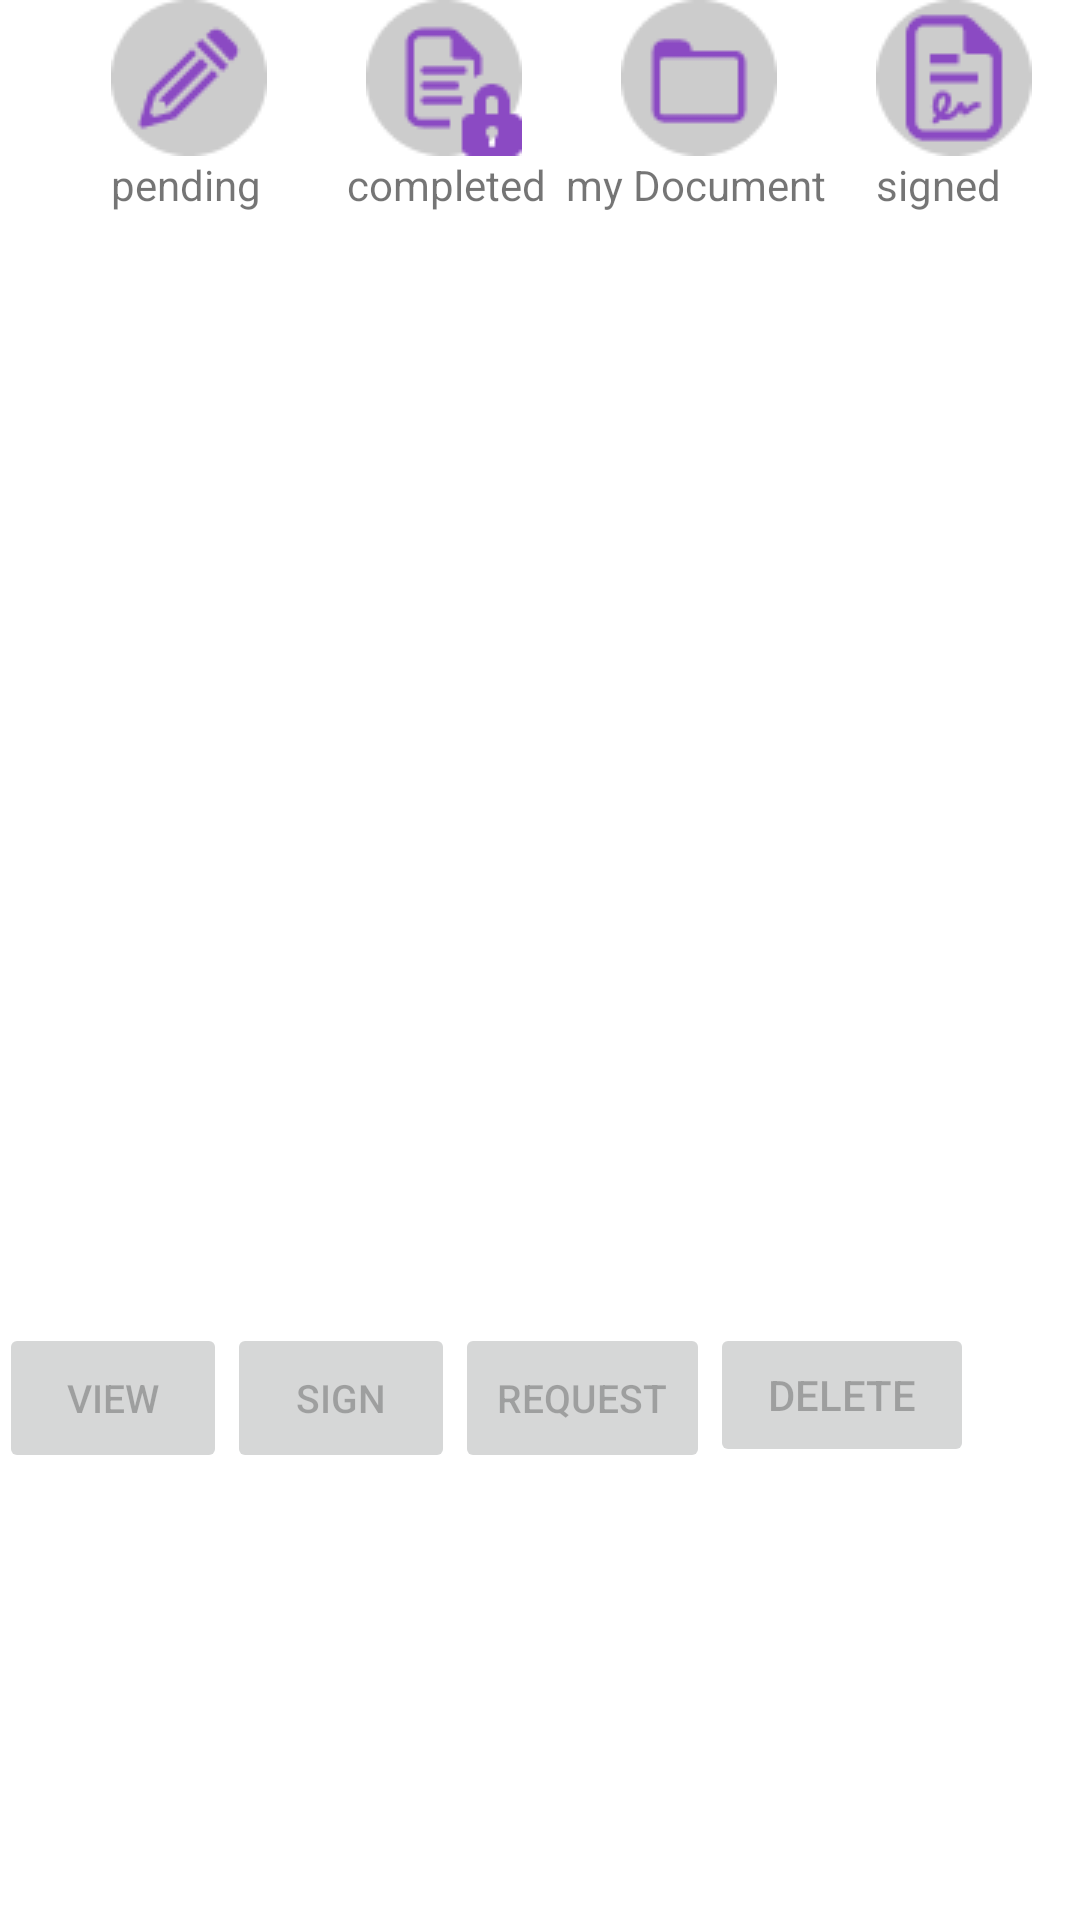

Where to tap for icons on this 1080 × 1920 app screen, as (x,y):
docuser: (699,78)
lock: (444,78)
